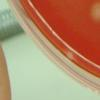white: (88, 0, 100, 23)
